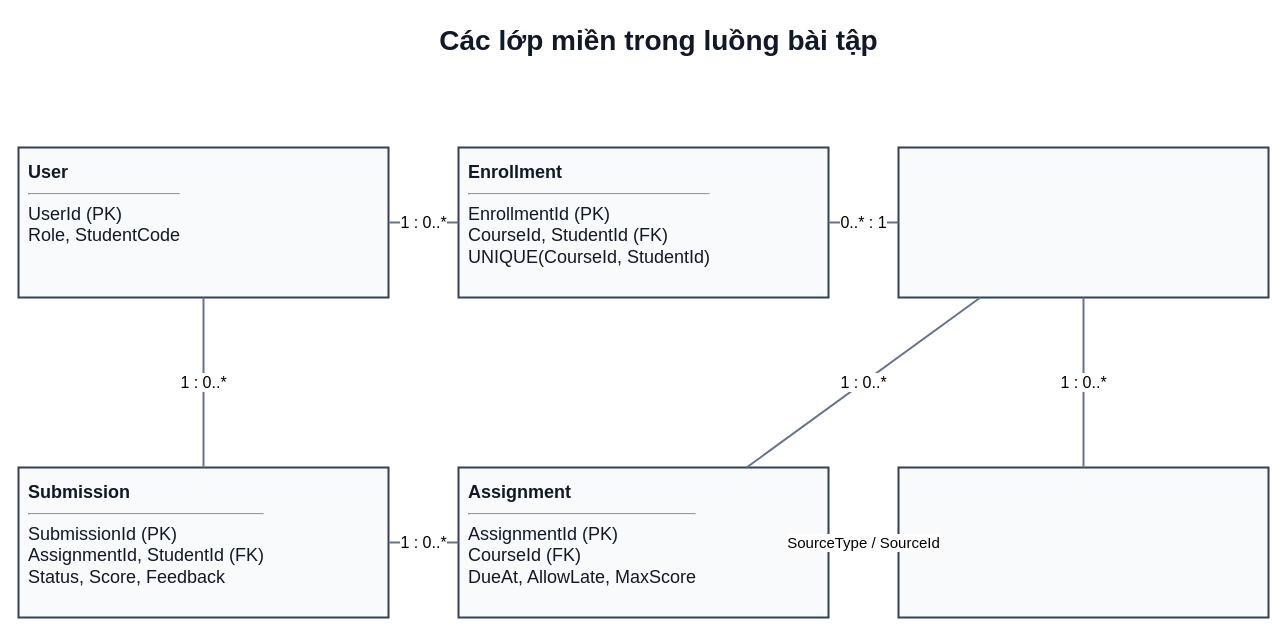
Image size: 1286x635. Some labels were removed from this diagram. Each missing label, with the box of its shape:
Course CourseId (PK) LecturerId (FK), Status: (897, 146, 1269, 298)
Grade GradeId (PK) CourseId, StudentId, GradedBy (FK) SourceType, SourceId: (897, 466, 1269, 618)
